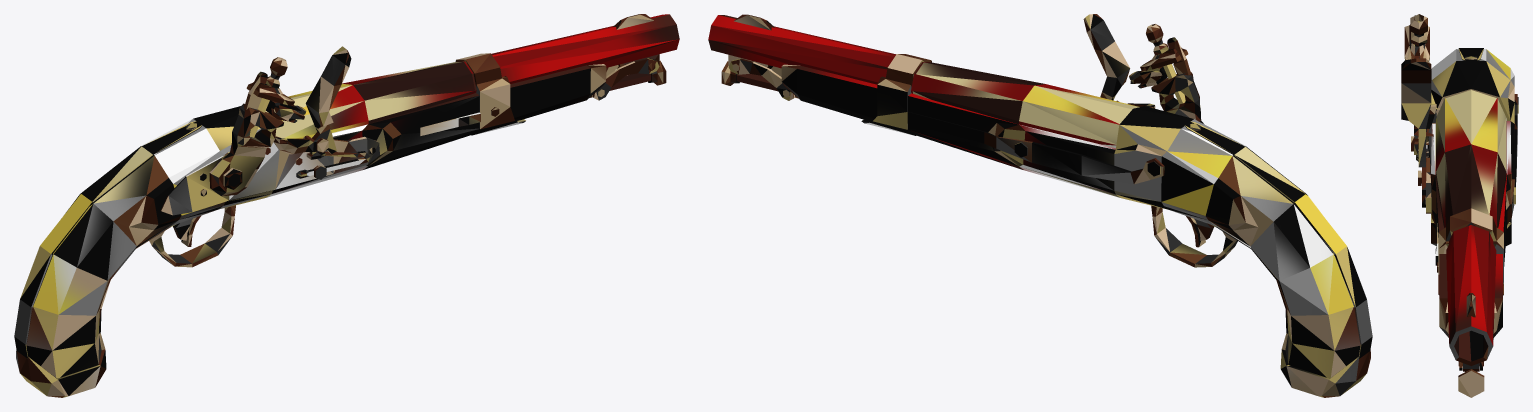
File: revolver.fbx
3 renders of one model, left to right at view 1: azimuth 30°, elevation 25°; view 2: azimuth 150°, elevation 25°; view 3: azimuth 270°, elevation 25°, orthographic. The views are drawn at different scales.
Parts seen in each view (by area): view 1: revolver; view 2: revolver; view 3: revolver.
Boxes of the visible parts, <box> form: revolver: <box>14,14,679,397</box>; revolver: <box>708,14,1372,397</box>; revolver: <box>1401,14,1518,397</box>.
Bounding box in the file's own units: 168 × 74.09 × 23.26.
